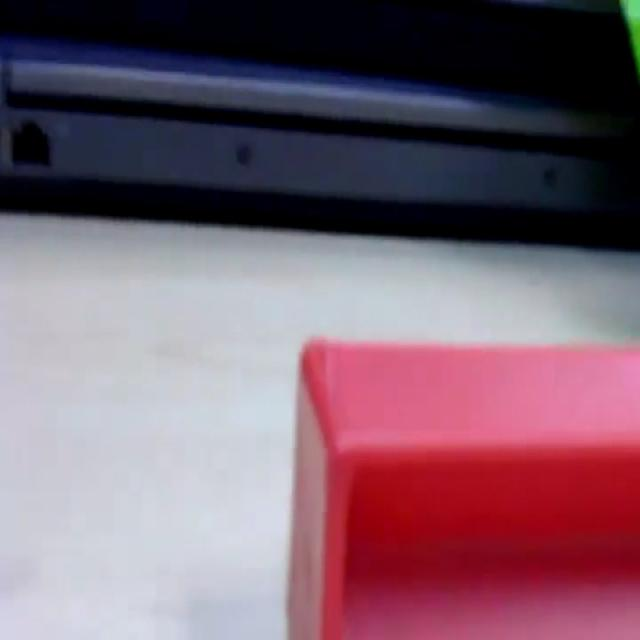red_block: (286, 332, 638, 637)
